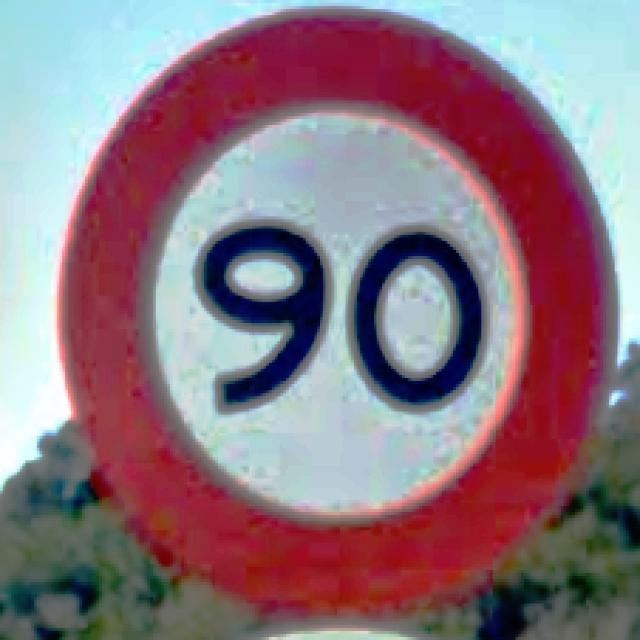max90: (54, 3, 617, 622)
